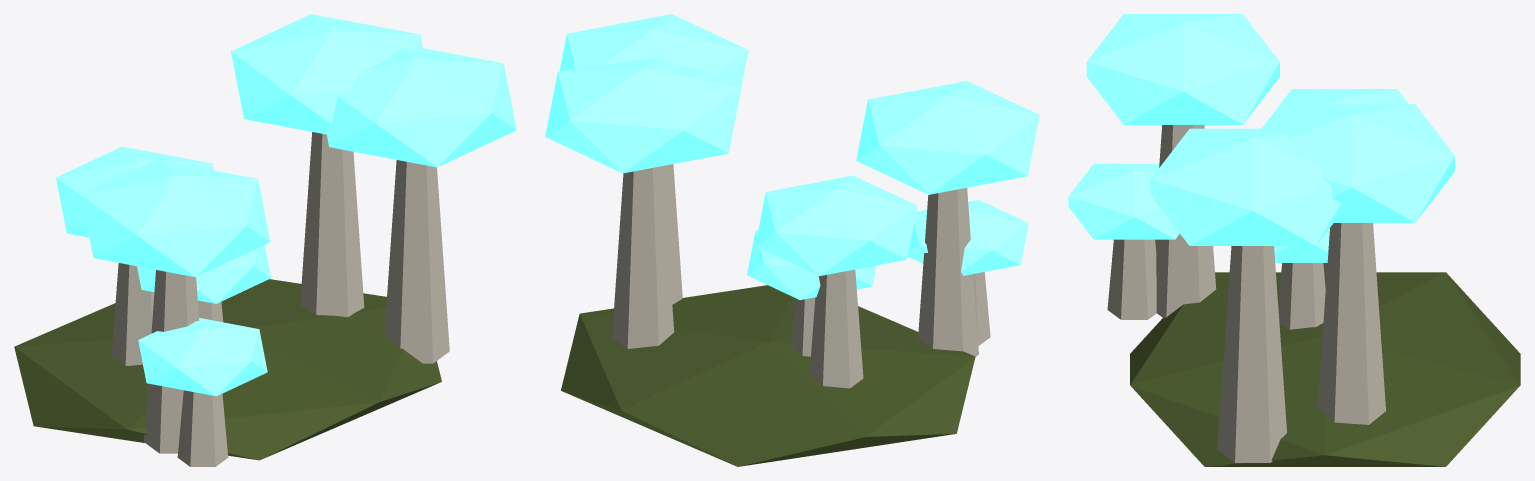
File: shrooms_lo.glb
The picture shows the model from 3 angles, left to right: view 1: azimuth 30°, elevation 25°; view 2: azimuth 150°, elevation 25°; view 3: azimuth 270°, elevation 25°; orthographic projection. The views are drawn at different scales.
Parts seen in each view (by area): view 1: shrooms; view 2: shrooms; view 3: shrooms.
Part boxes in pixels (<box>): shrooms: <box>14,14,516,466</box>; shrooms: <box>545,14,1039,466</box>; shrooms: <box>1068,14,1520,466</box>.
Bounding box in the file's own units: 0.5705 × 0.4046 × 0.4728.
